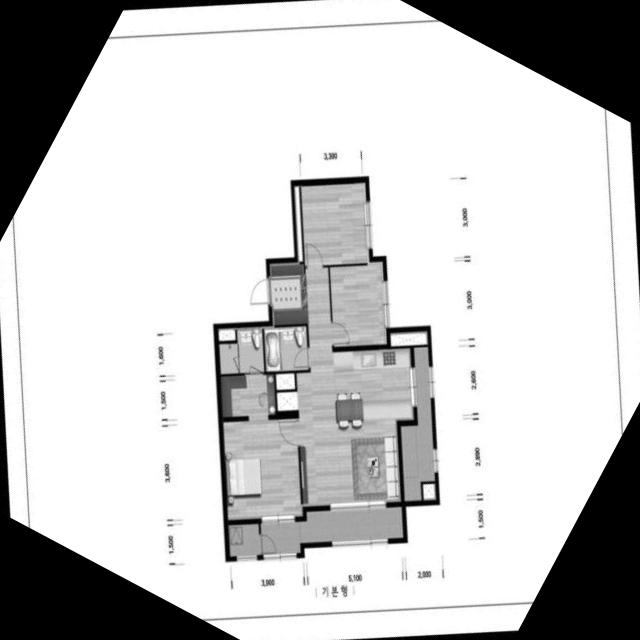background: (0, 0, 640, 640)
space_balconi: (260, 506, 403, 554), (400, 346, 435, 501)
space_bedroom: (223, 418, 303, 520), (301, 182, 369, 266), (329, 261, 387, 346)
space_dressroom: (221, 374, 275, 417)
space_front: (268, 262, 308, 325)
space_kitchen: (332, 348, 414, 430)
space_living_room: (276, 267, 400, 506)
space_other: (228, 523, 260, 556), (294, 185, 303, 261), (390, 331, 428, 346), (275, 372, 295, 390), (218, 327, 235, 341), (422, 483, 436, 500)
space_toilet: (219, 326, 264, 374), (264, 326, 308, 372)
